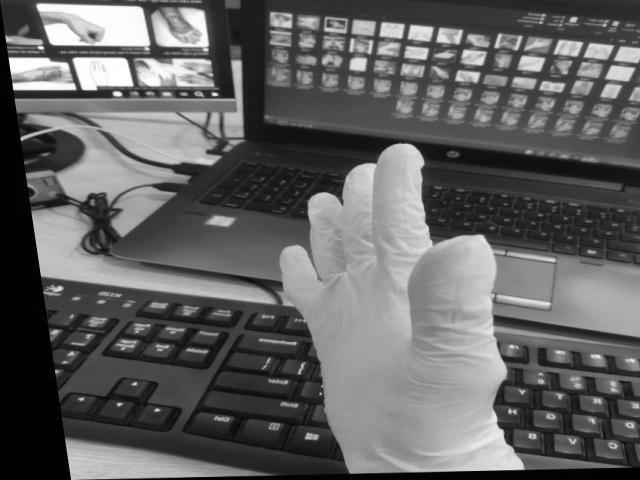gloved: (281, 146, 524, 474)
